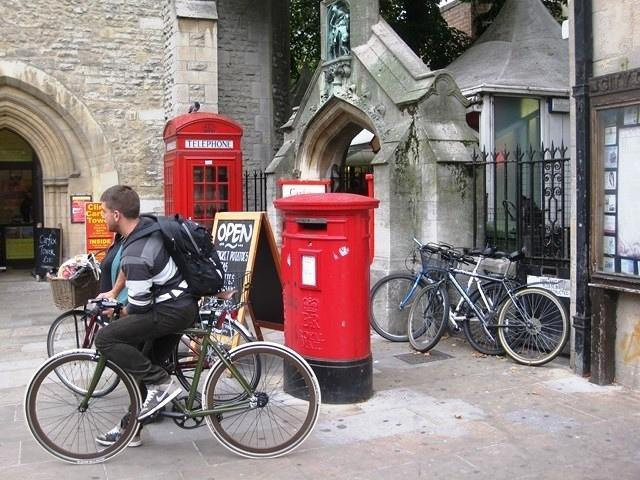non-vehicle: (23, 297, 322, 466), (46, 245, 261, 406), (406, 249, 570, 367), (368, 237, 529, 356)
